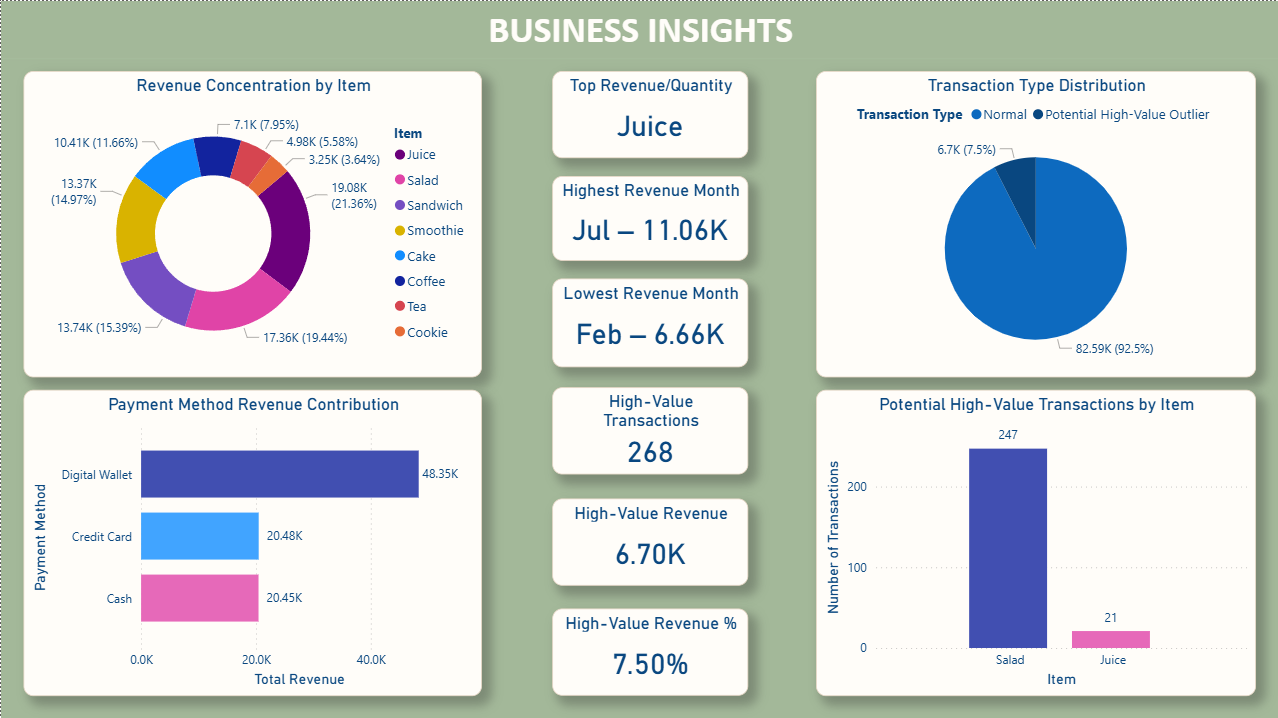

Layout of this report page (visuals, bound fields, positions):
{"tool":"powerbi","page":{"name":"Business Insights","canvas":[1280,720],"ordinal":1},"visuals":[{"type":"shape","box":[0,57.5,1280,662.5],"z":0},{"type":"textbox","box":[0,0,1280,57.5],"z":1000},{"type":"pieChart","title":"Transaction Type Distribution","fields":{"Category":["CafeSales.Transaction Type"],"Y":["CafeSales.Total Revenue"]},"box":[815,70,440,306.2],"z":5000},{"type":"donutChart","title":"Revenue Concentration by Item","fields":{"Category":["CafeSales.Item"],"Y":["CafeSales.Total Revenue"]},"box":[22.5,70,458.8,306.2],"z":6000},{"type":"card","title":"Top Revenue/Quantity","fields":{"Values":["Min(CafeSales.Item)"]},"box":[551.2,70,196.2,87.5],"z":6500},{"type":"clusteredBarChart","title":"Payment Method Revenue Contribution","fields":{"Category":["CafeSales.Payment Method"],"Y":["CafeSales.Total Revenue"]},"box":[22.5,388.8,458.8,306.2],"z":6501},{"type":"card","title":"Highest Revenue Month","fields":{"Values":["CafeSales.Highest Month Info"]},"box":[551.2,175,196.2,85],"z":6503},{"type":"card","title":"Lowest Revenue Month","fields":{"Values":["CafeSales.Lowest Month Info"]},"box":[551.2,277.5,196.2,88.8],"z":6504},{"type":"clusteredColumnChart","title":"Potential High-Value Transactions by Item","fields":{"Category":["CafeSales.Item"],"Y":["CafeSales.High-Value Transactions"]},"box":[815,388.8,440,306.2],"z":6505},{"type":"card","title":"High-Value Transactions","fields":{"Values":["CafeSales.High-Value Transactions"]},"box":[551.2,386.2,196.2,87.5],"z":6506},{"type":"card","title":"High-Value Revenue","fields":{"Values":["CafeSales.High-Value Revenue"]},"box":[551.2,497.5,196.2,87.5],"z":6507},{"type":"card","title":"High-Value Revenue %","fields":{"Values":["CafeSales.High-Value Revenue %"]},"box":[551.2,607.5,196.2,87.5],"z":6508}]}

Visuals, with their boxes in screenshot pixels (x1, y1, x2, y2), scaled from the page's 1280x720 canvas onto the 1278x718 screenshot:
shape: bbox(0, 57, 1277, 717)
textbox: bbox(0, 0, 1277, 57)
"Transaction Type Distribution" pieChart: bbox(814, 70, 1253, 375)
"Revenue Concentration by Item" donutChart: bbox(22, 70, 481, 375)
"Top Revenue/Quantity" card: bbox(550, 70, 746, 157)
"Payment Method Revenue Contribution" clusteredBarChart: bbox(22, 388, 481, 693)
"Highest Revenue Month" card: bbox(550, 175, 746, 259)
"Lowest Revenue Month" card: bbox(550, 277, 746, 365)
"Potential High-Value Transactions by Item" clusteredColumnChart: bbox(814, 388, 1253, 693)
"High-Value Transactions" card: bbox(550, 385, 746, 472)
"High-Value Revenue" card: bbox(550, 496, 746, 583)
"High-Value Revenue %" card: bbox(550, 606, 746, 693)
